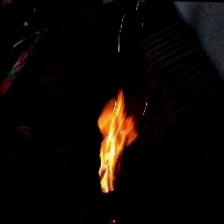fire: (86, 85, 144, 199)
